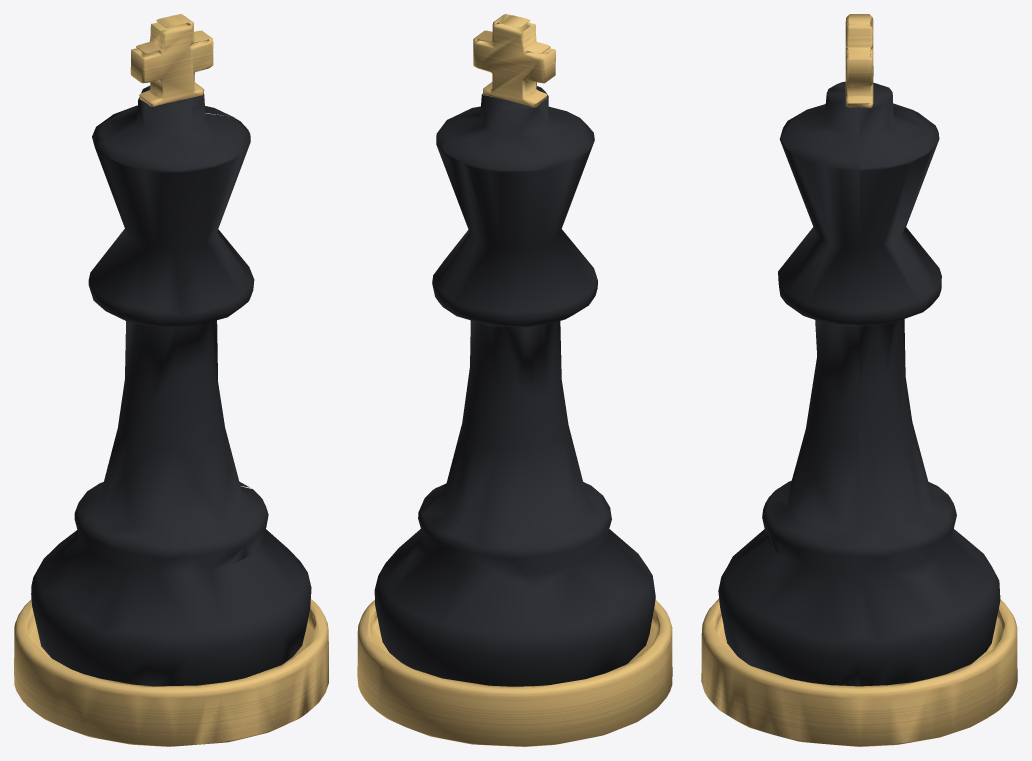
Rendered from aurum_king_black.glb.
3 renders of one model, left to right at view 1: azimuth 30°, elevation 25°; view 2: azimuth 150°, elevation 25°; view 3: azimuth 270°, elevation 25°, orthographic.
Visible parts, largest first — view 1: Aurum Noir – King; view 2: Aurum Noir – King; view 3: Aurum Noir – King.
Part boxes in pixels (left/top/right/bottom): Aurum Noir – King: left=14, top=14, right=328, bottom=746; Aurum Noir – King: left=357, top=14, right=672, bottom=746; Aurum Noir – King: left=701, top=14, right=1017, bottom=746.
Bounding box in the file's own units: 0.0433 × 0.1 × 0.0432.
2 materials, 1 textured.
